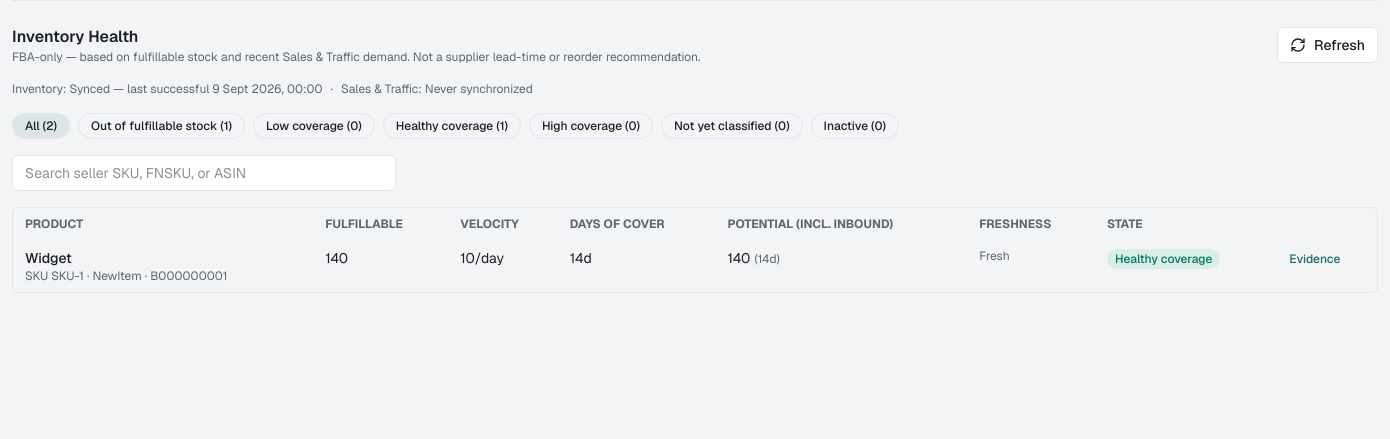
Test case: SellerInventoryHealth › shows a null amazon_last_updated_time as 'Not reported by Amazon', never as stale inventory
Check: the row with test id "inventory-health-row-inv-1" is shown, box top-left (13, 240), bottom-right (1377, 292)
Click the button "Evidence".
click(1315, 259)  # box top-left (1289, 251), bottom-right (1340, 267)
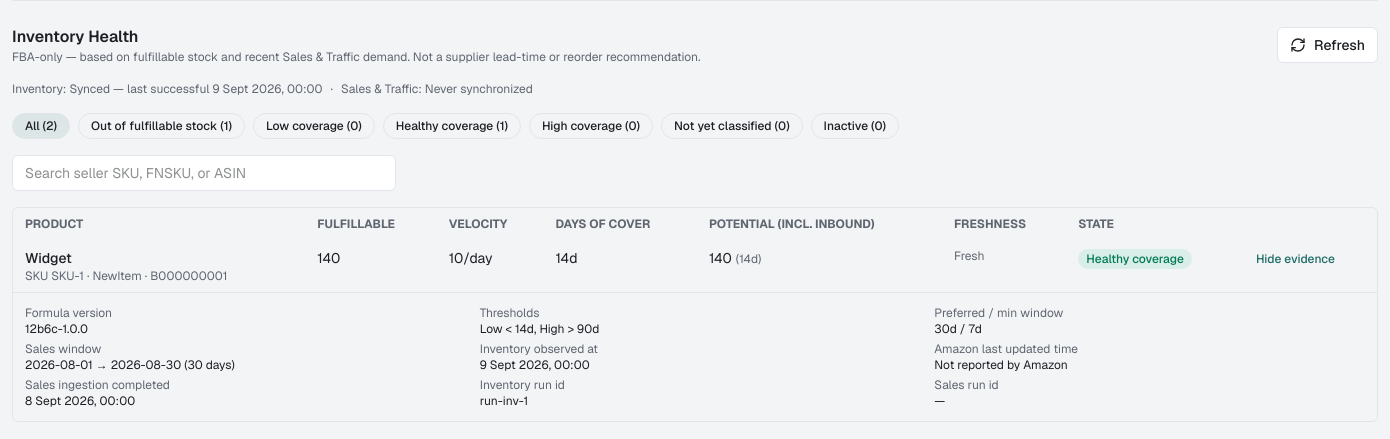
Check: the text "Not reported by Amazon" is shown, box top-left (934, 357), bottom-right (1068, 373)
